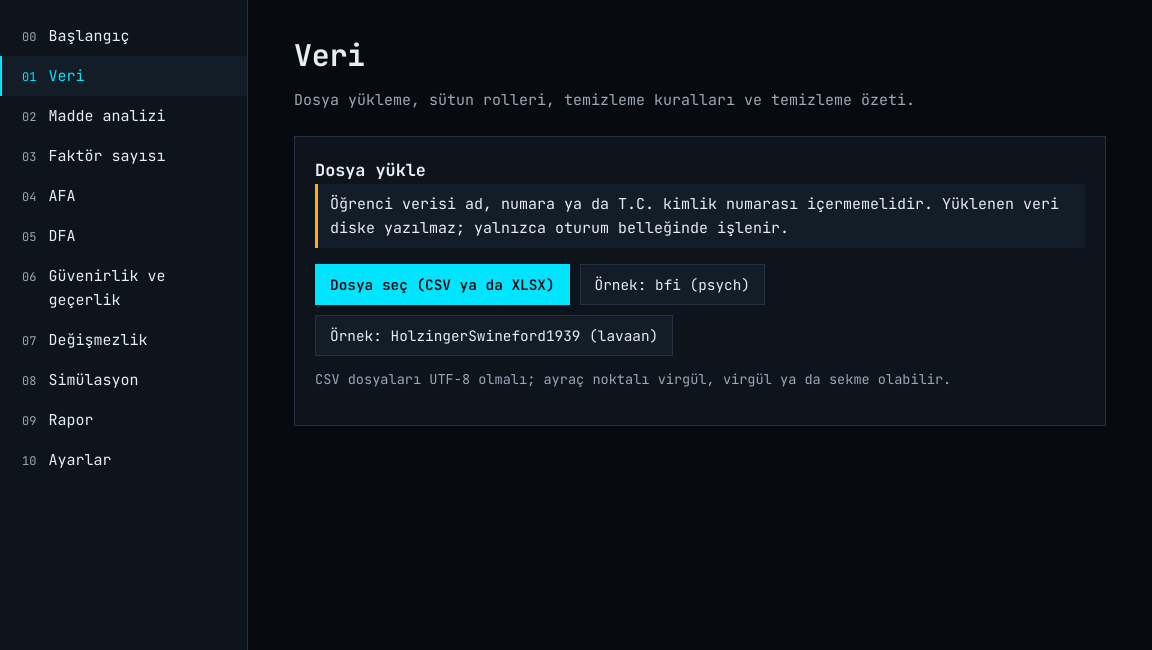
Scenario: Faz 1 akışı: veri → temizleme → madde analizi → faktör sayısı › örnek veri önerilen rollerle dolar; kaydedilen gövde R önerisiyle aynı
Step 1. Click the button "Örnek: bfi (psych)" → (672, 284), box [580,264,765,305]
(page scrolled)
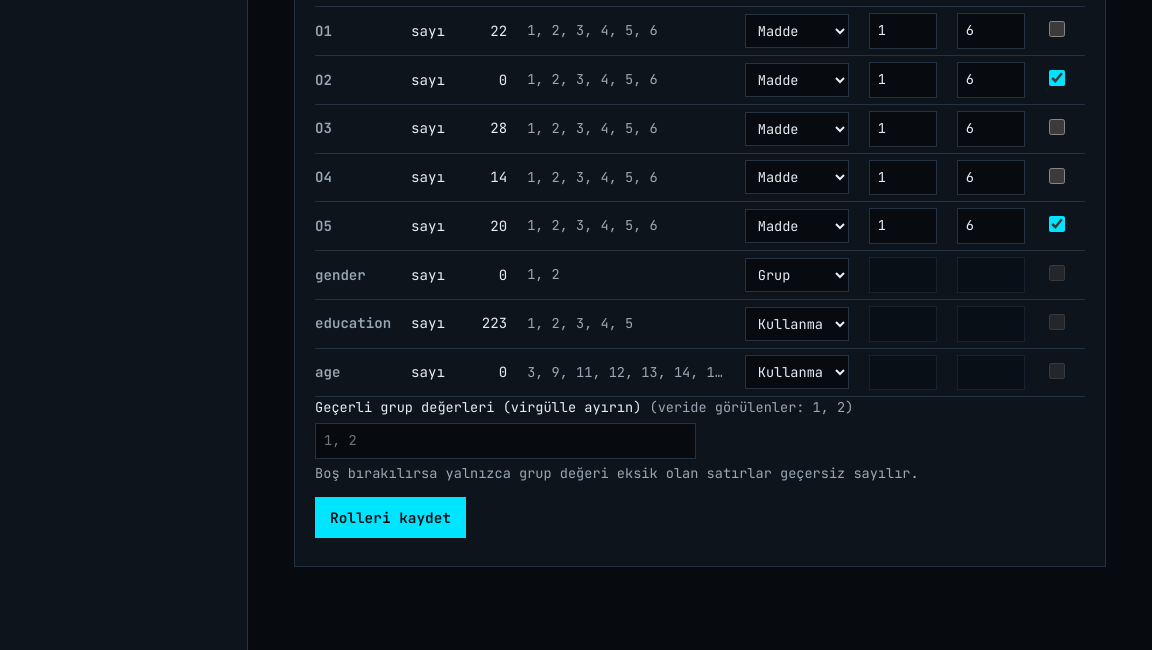
expect the dropdown named "gender Rol" shows "Grup": met, box [745,258,849,292]
Step 2. Click the button "Rolleri kaydet" → (391, 517), box [315,497,466,538]
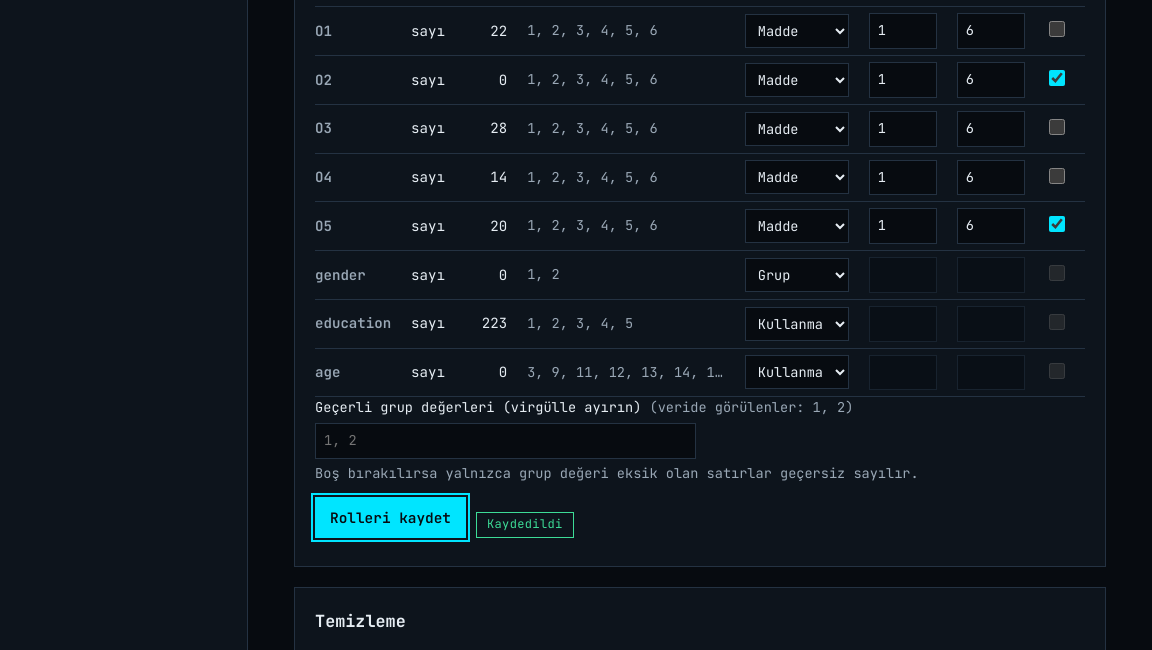
expect the text "Kaydedildi" is shown: met, box [476,512,574,538]
